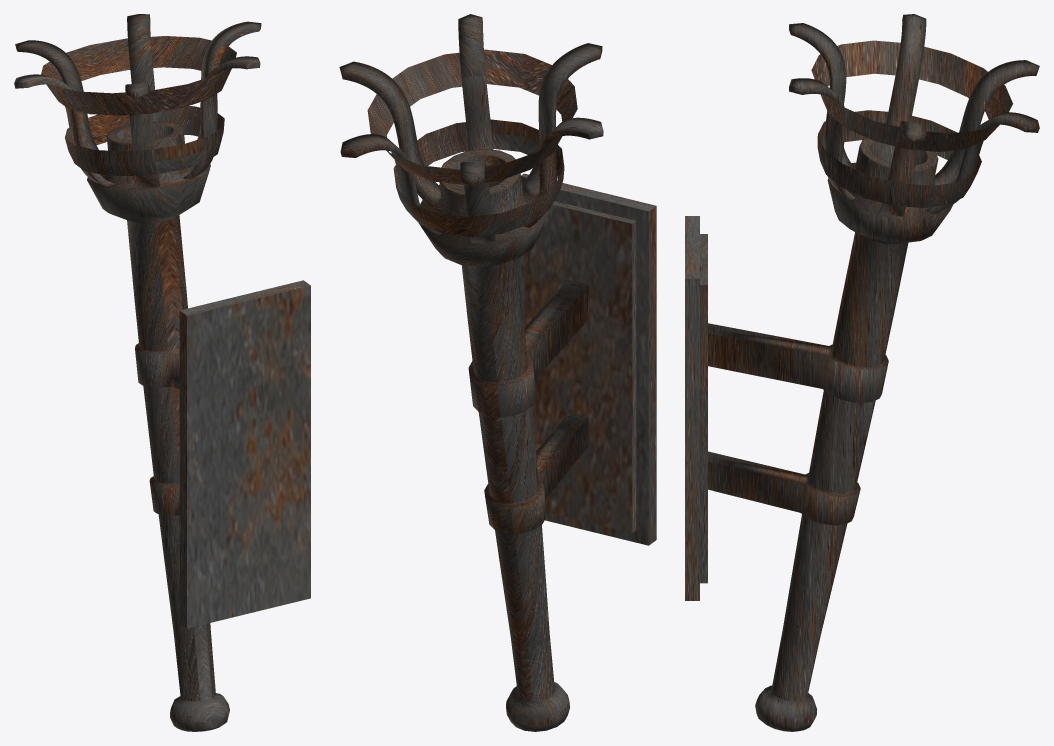
File: fire.fbx
3 views of the same model, side by side, from view 1: azimuth 30°, elevation 25°; view 2: azimuth 150°, elevation 25°; view 3: azimuth 270°, elevation 25° (orthographic). The views are drawn at different scales.
Visible parts, largest first — view 1: Cube; view 2: Cube; view 3: Cube.
Part boxes in pixels (left/top/right/bottom): Cube: left=14, top=14, right=310, bottom=731; Cube: left=339, top=14, right=656, bottom=731; Cube: left=685, top=14, right=1039, bottom=731.
Size of the model in its own units: 279 by 703 by 337.
